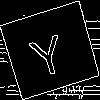Y: (25, 25, 69, 79)
